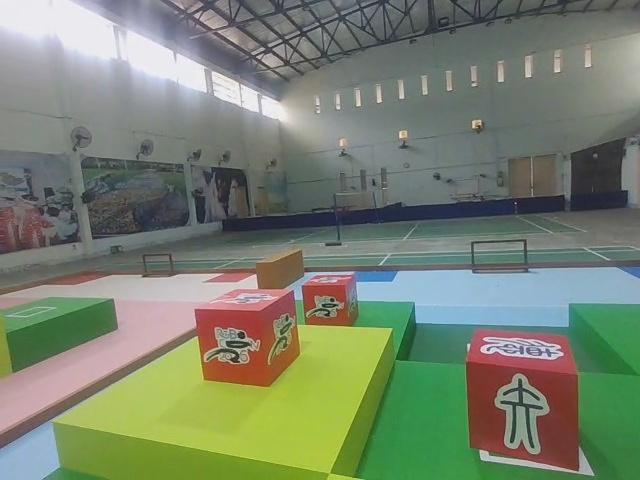R1: (191, 285, 303, 390), (300, 269, 362, 333)
R2 Fake: (461, 326, 584, 475)
